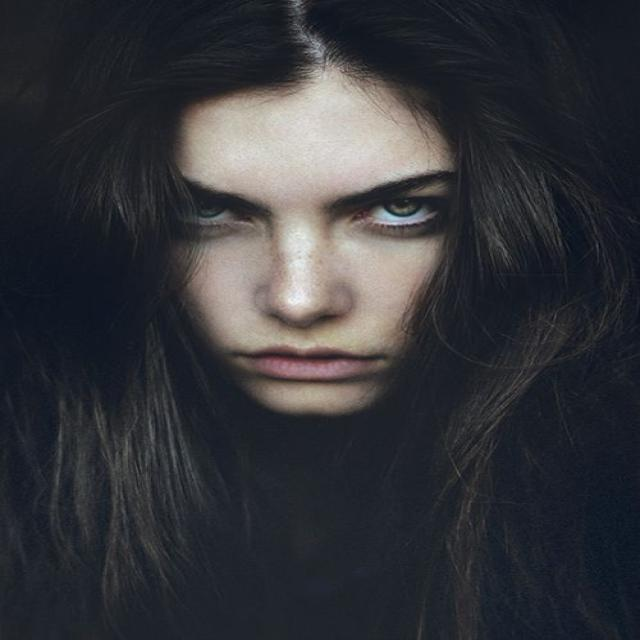sem_oculos: (114, 158, 545, 252)
